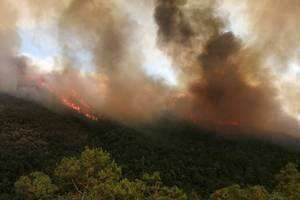fire: (16, 63, 100, 122)
